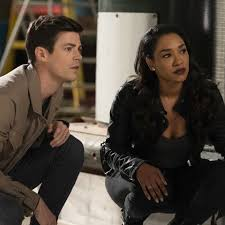Caution: (1, 14, 225, 225)
